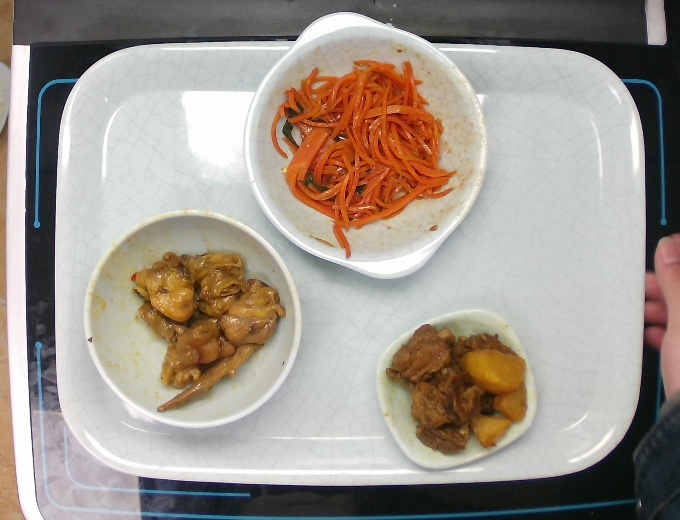JYsf-Fan_Wan: (81, 206, 303, 430)
JYsf-Shuang_Er_Wan: (241, 9, 490, 281)
JYsf-Si_Fang_Die: (372, 306, 539, 472)
